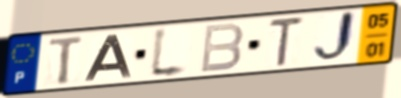A: (82, 34, 135, 83)
B: (198, 22, 246, 75)
J: (311, 8, 358, 67)
L: (147, 24, 190, 81)
T: (267, 15, 307, 69), (47, 33, 87, 86)
